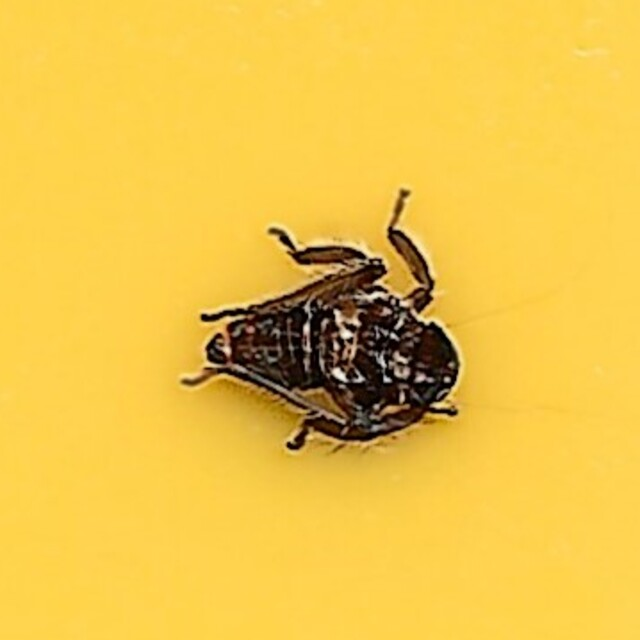Hemiptera: (178, 190, 462, 450)
